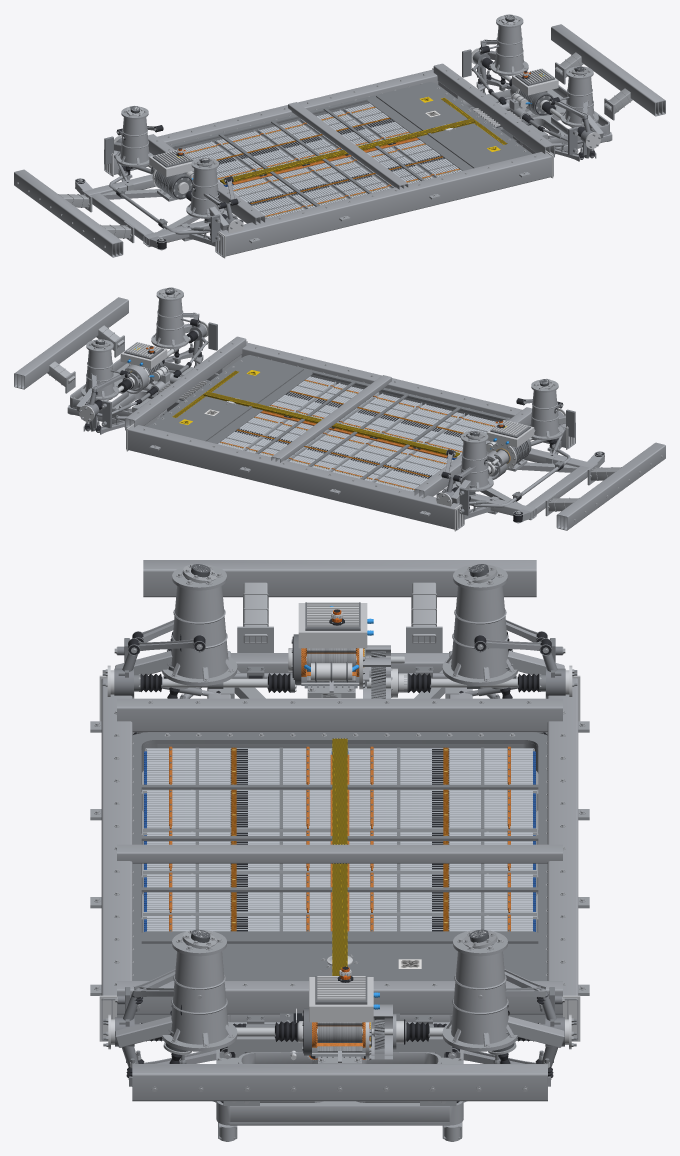
The model's file is avatr-06t-xray.glb.
3 views of the same model, one above another, from view 1: azimuth 30°, elevation 25°; view 2: azimuth 150°, elevation 25°; view 3: azimuth 270°, elevation 25° (orthographic). The views are drawn at different scales.
Parts seen in each view (by area): view 1: XR_Frame_Floor, XR_Battery, XR_Battery_Lid, XR_Frame_CrashF, XR_Frame_CrashR, XR_Frame_SubR, XR_Susp_FL_Tower, XR_Susp_RL_Tower, XR_Susp_RR_Tower, XR_Battery_Busbars, XR_Frame_SubF, XR_Susp_FR_Tower (+12 smaller); view 2: XR_Frame_Floor, XR_Battery, XR_Battery_Lid, XR_Frame_CrashF, XR_Frame_CrashR, XR_Frame_SubR, XR_Susp_FR_Tower, XR_Susp_RL_Tower, XR_Battery_Busbars, XR_Susp_RR_Tower, XR_Susp_FL_Tower, XR_Frame_SubF (+13 smaller); view 3: XR_Battery, XR_Frame_Floor, XR_Battery_Lid, XR_Frame_CrashF, XR_Frame_CrashR, XR_Frame_SubF, XR_Susp_FL_Tower, XR_Susp_FR_Tower, XR_Susp_RL_Tower, XR_Susp_RR_Tower, XR_Drive_R_Inverter, XR_Drive_F_Inverter (+20 smaller).
Boxes of the visible parts, x1,y1,x2,y2 form: XR_Frame_Floor: (104,63,554,258); XR_Battery: (182,103,461,218); XR_Battery_Lid: (169,82,531,218); XR_Frame_CrashF: (551,24,665,120); XR_Frame_CrashR: (14,169,134,257); XR_Frame_SubR: (75,174,243,250); XR_Susp_FL_Tower: (487,15,528,75); XR_Susp_RL_Tower: (114,106,153,167); XR_Susp_RR_Tower: (186,157,228,230); XR_Battery_Busbars: (185,106,459,216); XR_Frame_SubF: (461,85,612,154); XR_Susp_FR_Tower: (561,66,603,138); XR_Frame_Floor: (125,336,575,531); XR_Battery: (218,376,497,491); XR_Battery_Lid: (148,355,510,491); XR_Frame_CrashF: (14,297,128,393); XR_Frame_CrashR: (545,442,665,530); XR_Frame_SubR: (436,448,604,523); XR_Susp_FR_Tower: (151,288,192,348); XR_Susp_RL_Tower: (451,431,493,503); XR_Battery_Busbars: (220,379,494,489); XR_Susp_RR_Tower: (530,379,565,440); XR_Susp_FL_Tower: (76,339,118,411); XR_Frame_SubF: (67,358,218,427); XR_Battery: (143,747,536,931); XR_Frame_Floor: (90,675,589,1041); XR_Battery_Lid: (132,732,547,980); XR_Frame_CrashF: (132,1064,547,1105); XR_Frame_CrashR: (143,560,536,652); XR_Frame_SubF: (216,1014,463,1141); XR_Susp_FL_Tower: (442,930,564,1051); XR_Susp_FR_Tower: (115,930,237,1051); XR_Susp_RL_Tower: (442,564,564,685); XR_Susp_RR_Tower: (115,564,237,685); XR_Drive_R_Inverter: (298,602,373,648); XR_Drive_F_Inverter: (309,966,379,1022).
Size of the model in its own units: 4.57 by 0.6872 by 1.78.
29 materials, 12 textured.
